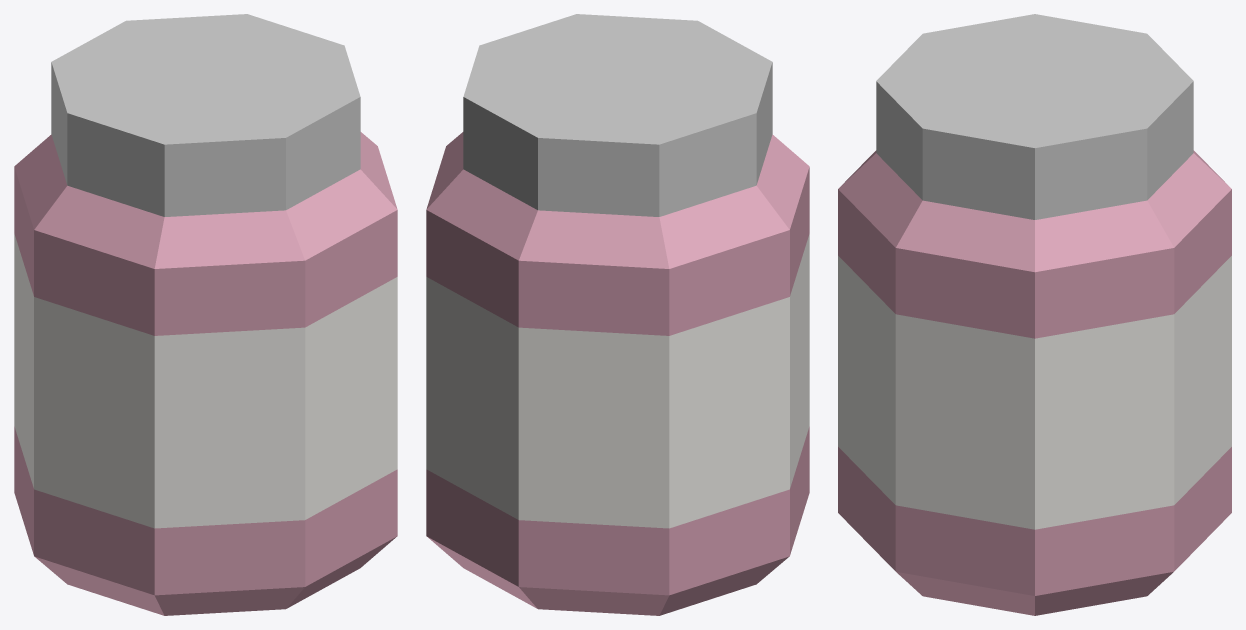
The model's file is Lodine.fbx.
The picture shows the model from 3 angles, left to right: view 1: azimuth 30°, elevation 25°; view 2: azimuth 150°, elevation 25°; view 3: azimuth 270°, elevation 25°; orthographic projection.
Visible parts, largest first — view 1: Lodine; view 2: Lodine; view 3: Lodine.
Boxes of the visible parts, x1=… form: Lodine: x1=14, y1=14, x2=397, y2=615; Lodine: x1=426, y1=14, x2=809, y2=615; Lodine: x1=838, y1=14, x2=1231, y2=615.
Size of the model in its own units: 0.0992 by 0.13 by 0.0992.
